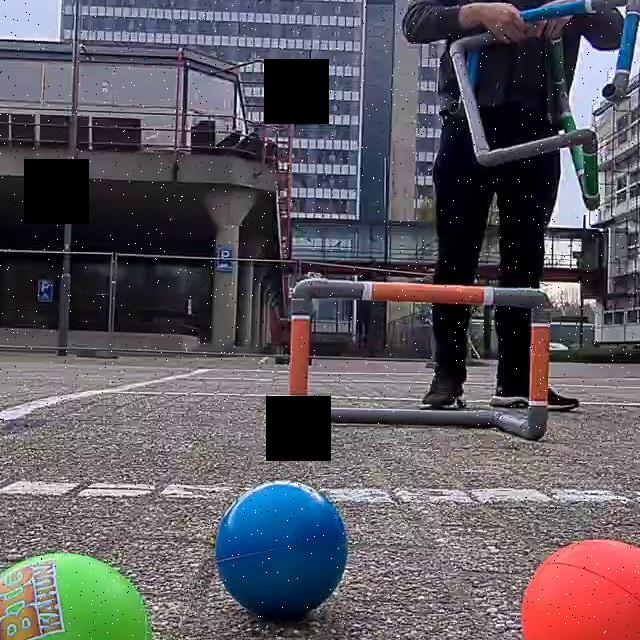ball: (213, 476, 354, 622), (517, 534, 639, 640)
